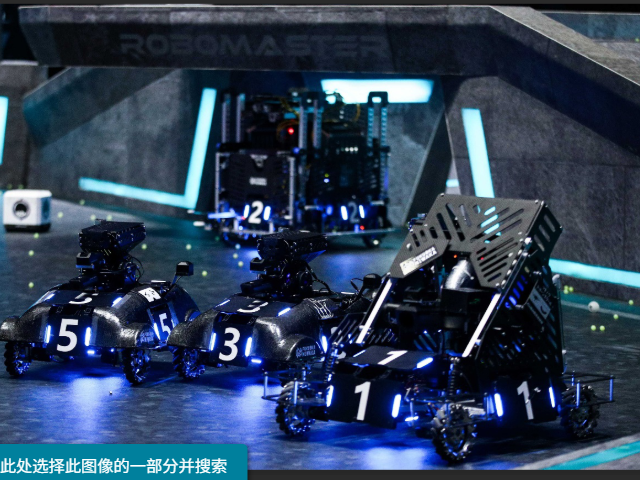rm: (265, 180, 613, 465), (2, 215, 201, 392), (204, 85, 391, 247), (181, 230, 373, 381)
